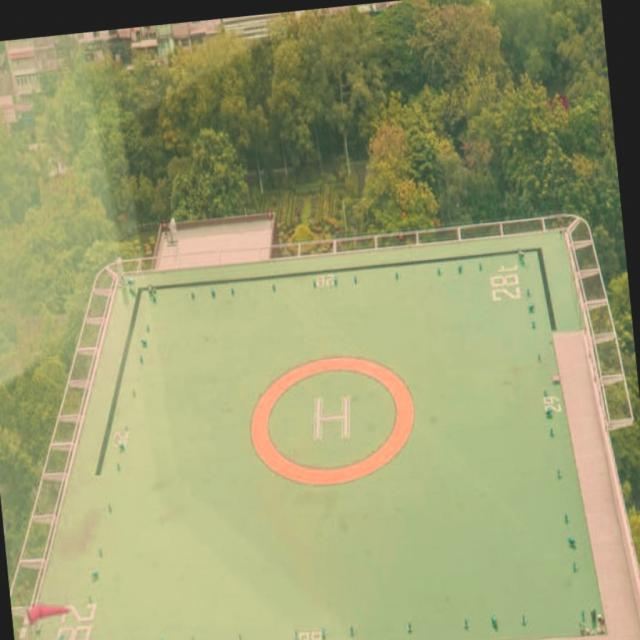helipad: (246, 352, 417, 490)
